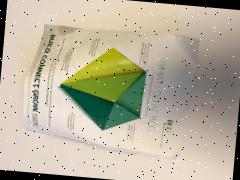paper: (0, 0, 221, 175)
